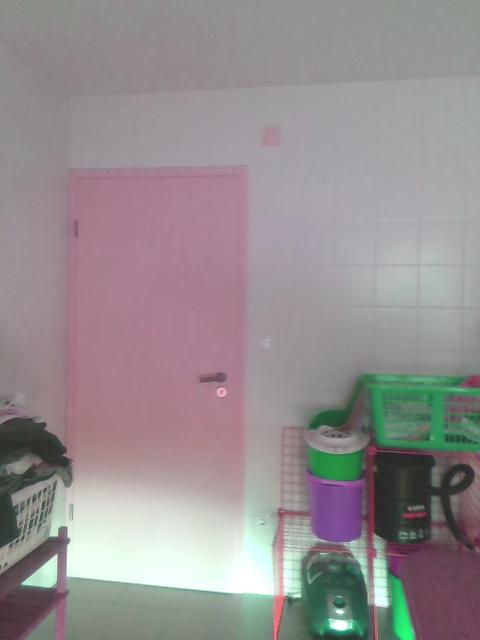closed_door: (58, 161, 252, 586)
